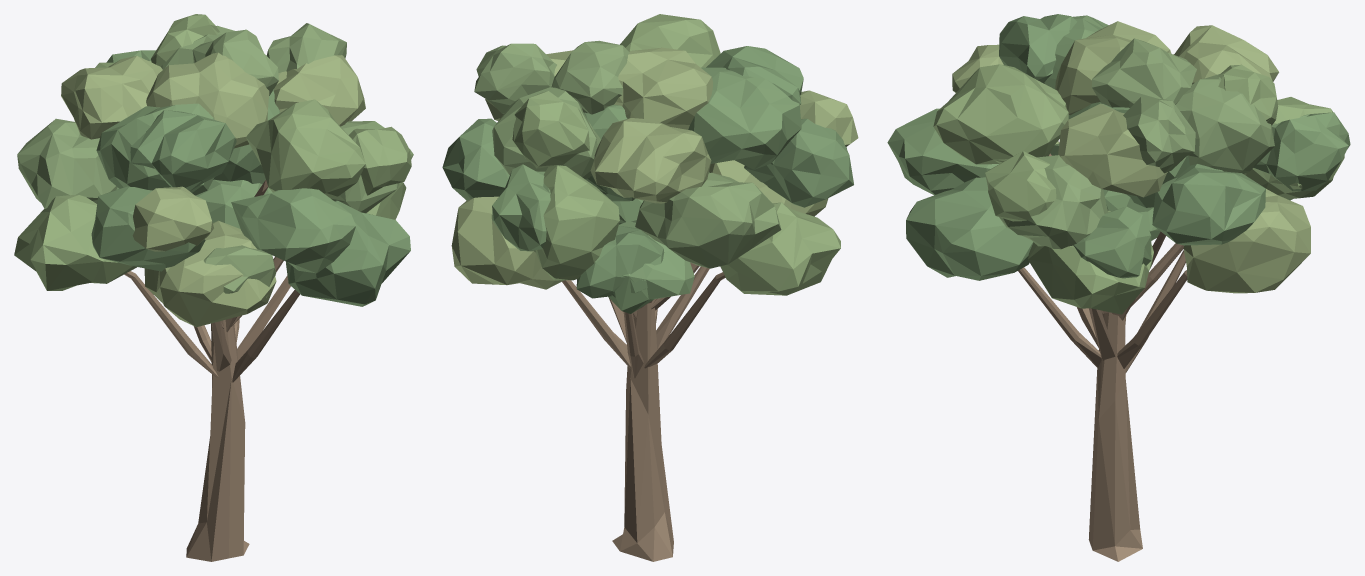
File: realistic_survival_tree_mobile.gltf
3 views of the same model, side by side, from view 1: azimuth 30°, elevation 25°; view 2: azimuth 150°, elevation 25°; view 3: azimuth 270°, elevation 25° (orthographic). The views are drawn at different scales.
Visible parts, largest first — view 1: Foliage moss, Foliage green, Foliage forest, Foliage olive, Foliage deep, Bark; view 2: Foliage moss, Foliage green, Foliage olive, Foliage forest, Foliage deep, Bark; view 3: Foliage moss, Foliage green, Foliage forest, Foliage olive, Foliage deep, Bark.
Part boxes in pixels (x1=…): Foliage moss: x1=61, y1=52, x2=365, y2=327; Foliage green: x1=14, y1=14, x2=411, y2=290; Foliage forest: x1=91, y1=89, x2=410, y2=306; Foliage olive: x1=17, y1=23, x2=413, y2=298; Foliage deep: x1=96, y1=50, x2=355, y2=273; Bark: x1=124, y1=180, x2=299, y2=561; Foliage moss: x1=451, y1=47, x2=858, y2=289; Foliage green: x1=512, y1=14, x2=840, y2=295; Foliage olive: x1=474, y1=40, x2=781, y2=268; Foliage forest: x1=442, y1=46, x2=853, y2=298; Foliage deep: x1=492, y1=67, x2=801, y2=313; Bark: x1=562, y1=262, x2=725, y2=561; Foliage moss: x1=952, y1=21, x2=1310, y2=293; Foliage green: x1=933, y1=64, x2=1344, y2=314; Foliage forest: x1=906, y1=14, x2=1292, y2=280; Foliage olive: x1=999, y1=38, x2=1274, y2=249; Foliage deep: x1=887, y1=15, x2=1350, y2=278; Bark: x1=1018, y1=153, x2=1187, y2=561.
Bounding box in the file's own units: 8.97 × 11.7 × 9.52.
